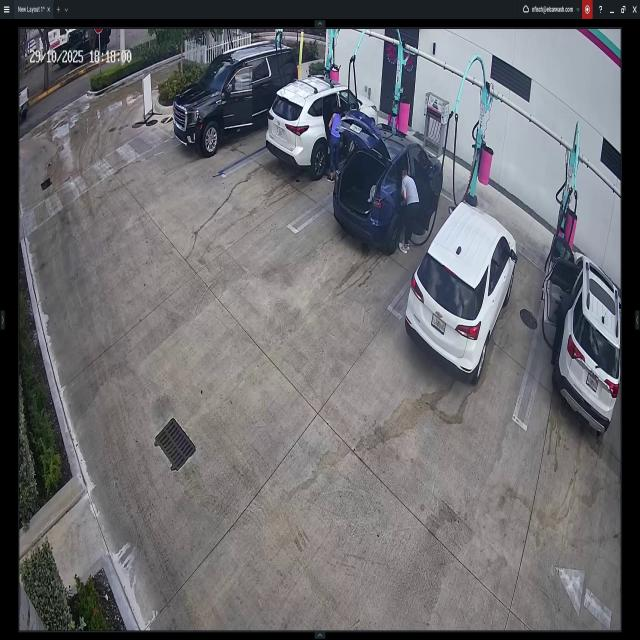Car: (405, 197, 515, 377), (546, 234, 620, 433), (172, 43, 298, 156), (332, 125, 444, 252), (266, 74, 378, 178), (19, 82, 31, 121)
